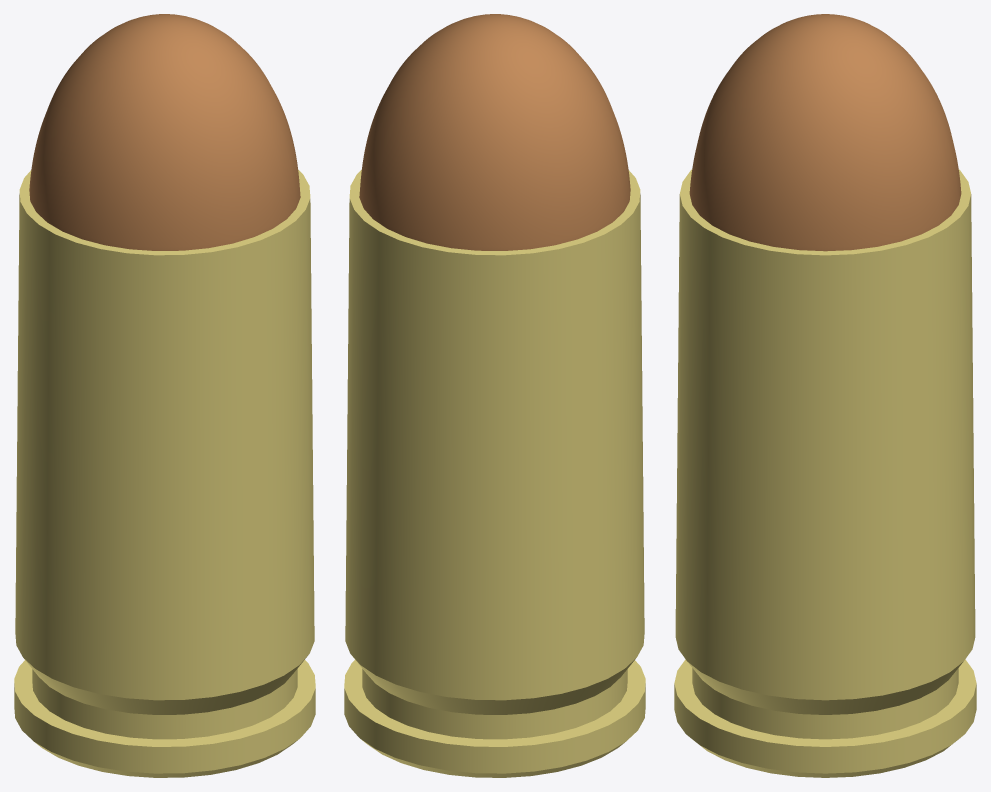
The model's file is 9mmParabellum.fbx.
The picture shows the model from 3 angles, left to right: view 1: azimuth 30°, elevation 25°; view 2: azimuth 150°, elevation 25°; view 3: azimuth 270°, elevation 25°; orthographic projection.
Visible parts, largest first — view 1: Casing; view 2: Casing; view 3: Casing.
Part boxes in pixels (bbox=[...]): Casing: bbox=[14, 14, 315, 777]; Casing: bbox=[344, 14, 645, 777]; Casing: bbox=[674, 14, 976, 777].
Bounding box in the file's own units: 0.01 × 0.0254 × 0.01.
